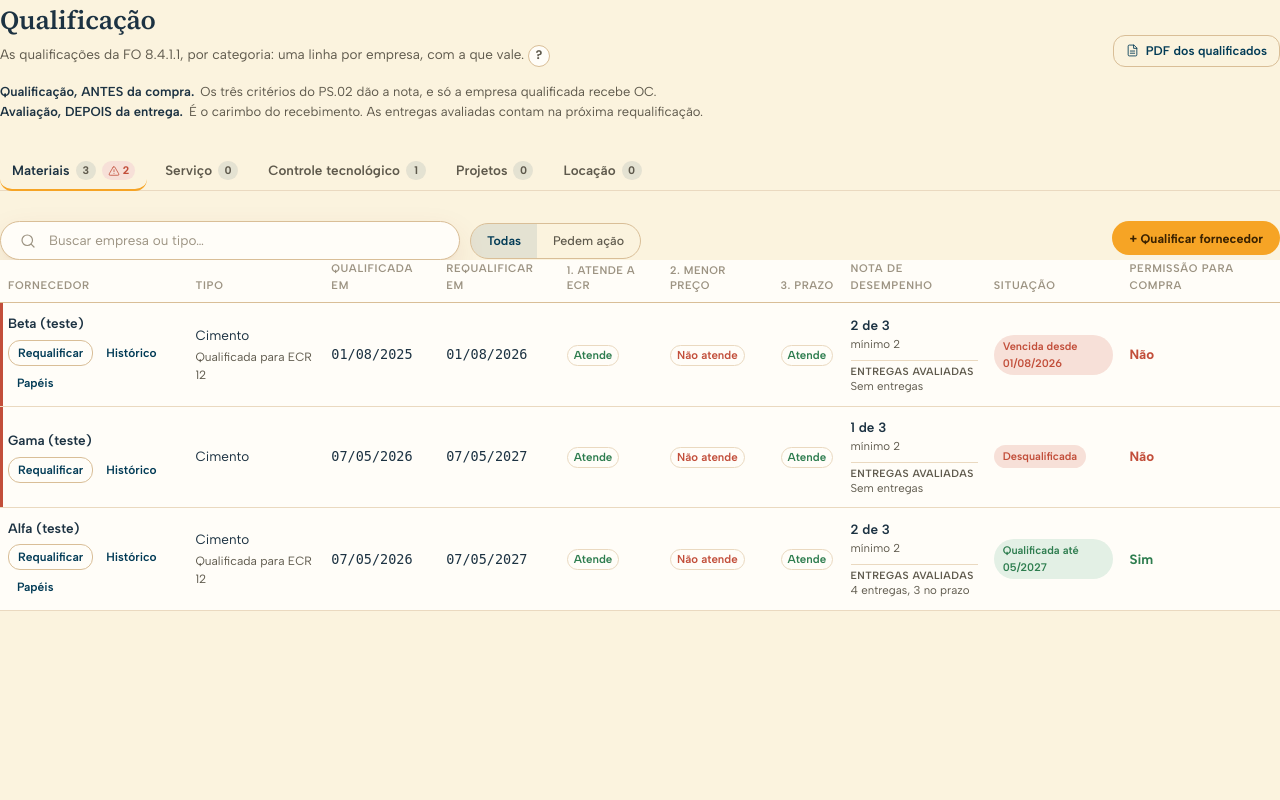
Test case: CTO-D661 — qualificar e requalificar, com o mesmo diálogo › "Requalificar" na linha abre o diálogo da categoria, com as ECRs que ela tinha
Click the button "Requalificar" below "Alfa (teste)": (51, 557) [8,544,93,570]
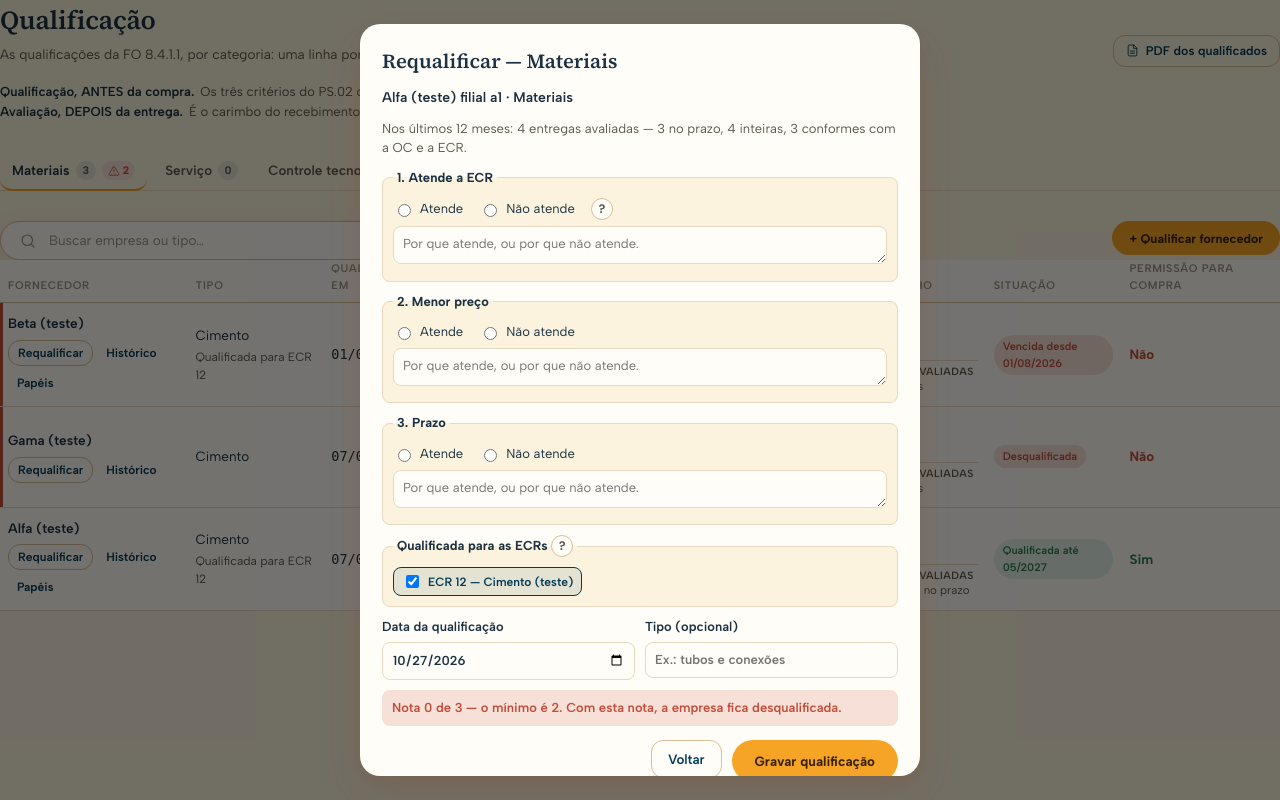
Expected: the heading "Requalificar — Materiais" is shown, [382,47,617,75]
Expected: the checkbox labelled "ECR 12 — Cimento (teste)" is checked, [406,576,419,588]
